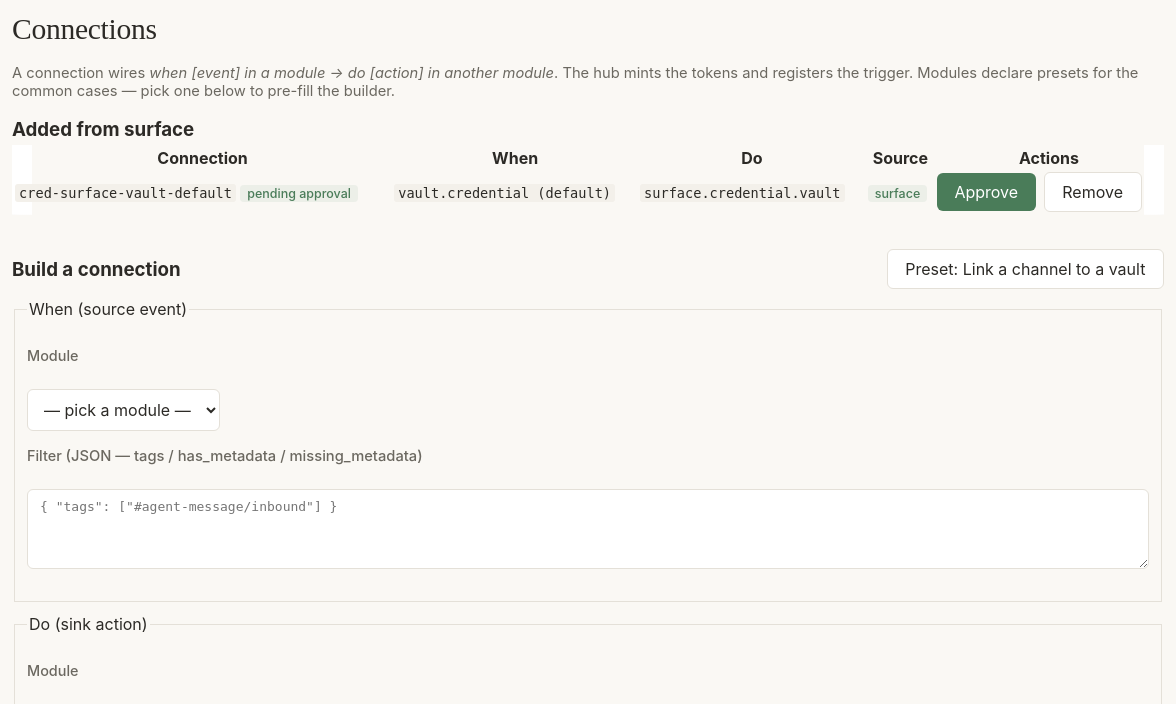
Test case: Connections — pending credential claims (surface#113) › renders the pending badge + one-click Approve, which POSTs approve and reloads
Expected: the text "cred-surface-vault-default" is shown, [15, 184, 236, 202]
Expected: the text with test id "pending-badge" reads "pending approval", [247, 186, 351, 201]
Click the button with aria-label "approve cred-surface-vault-default" at (986, 192), box [937, 173, 1036, 211]
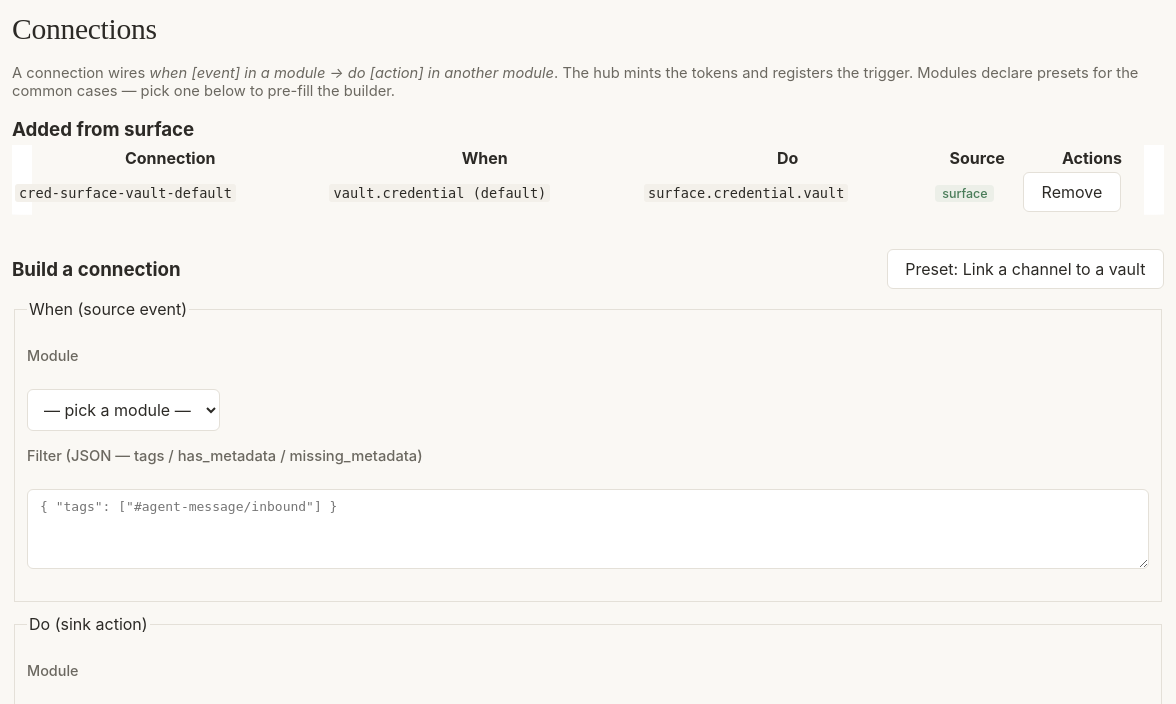
Result: the text with test id "pending-badge" is gone
Result: the button with test id "approve-connection" is gone
